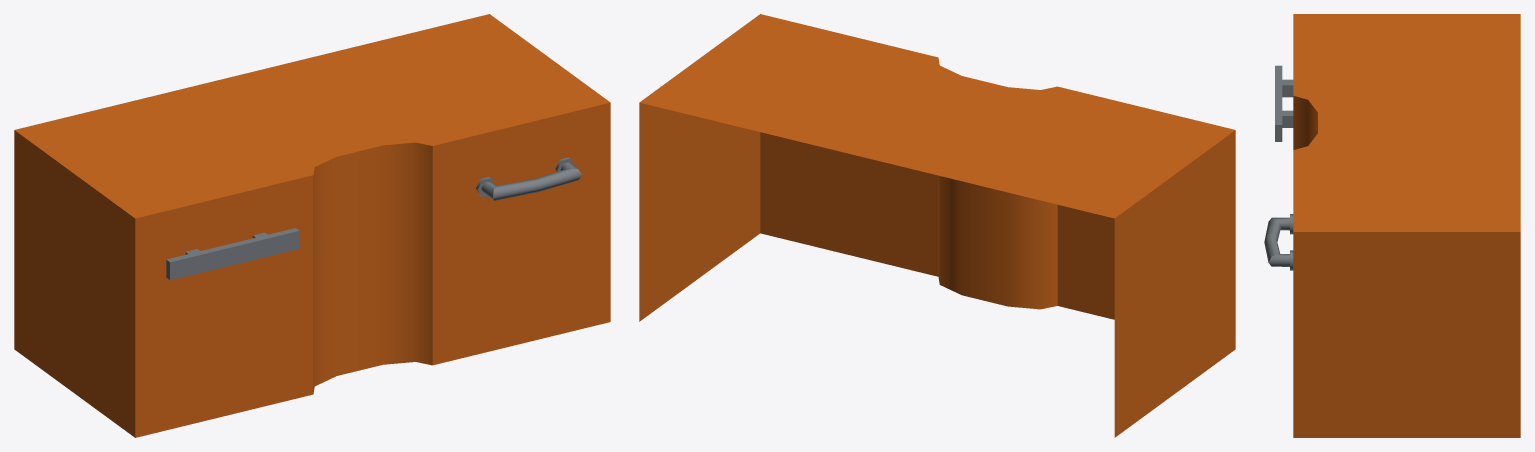
Rendered from CleaningRoom_Table.fbx.
3 views of the same model, side by side, from view 1: azimuth 30°, elevation 25°; view 2: azimuth 150°, elevation 25°; view 3: azimuth 270°, elevation 25° (orthographic). The views are drawn at different scales.
Parts seen in each view (by area): view 1: Desk; view 2: Desk; view 3: Desk.
Part boxes in pixels (x1,y1,x2,y2): Desk: (14,14,610,437); Desk: (639,14,1235,437); Desk: (1264,14,1520,437).
Size of the model in its own units: 835 by 368 by 416.
